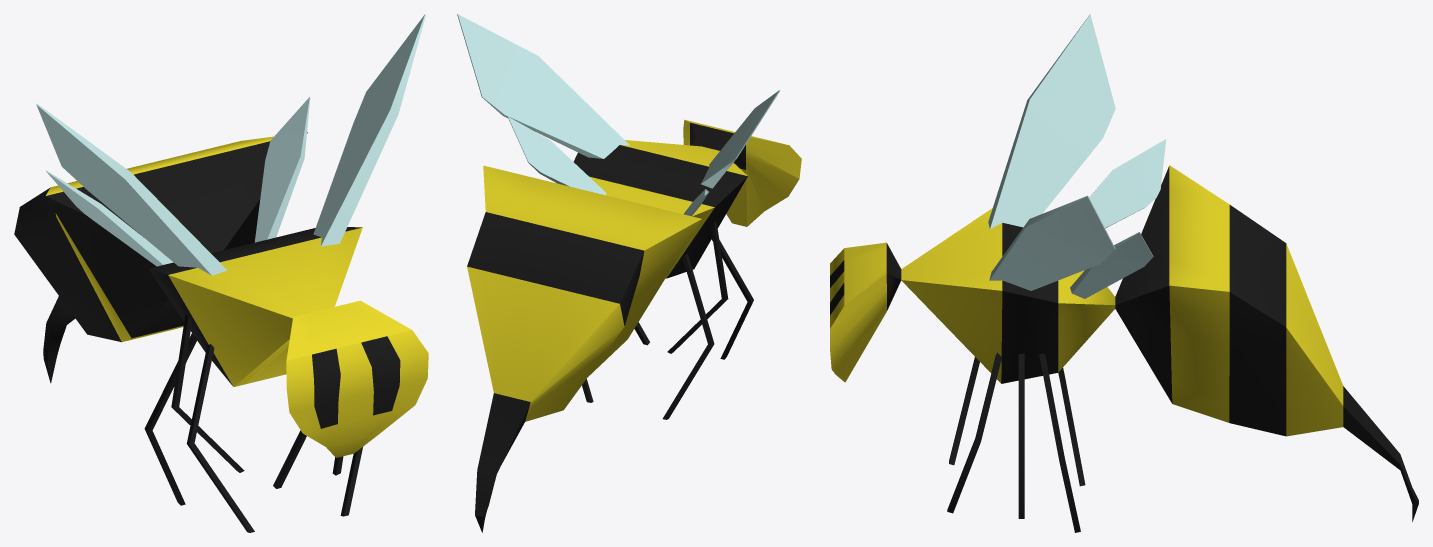
File: wasp.fbx
3 renders of one model, left to right at view 1: azimuth 30°, elevation 25°; view 2: azimuth 150°, elevation 25°; view 3: azimuth 270°, elevation 25°, orthographic. The views are drawn at different scales.
Visible parts, largest first — view 1: pCube1, pCube9, pCube8, pCube11, pCube10, pCube5, pCube6, pCube7, pCube2, pCube4; view 2: pCube1, pCube8, pCube11, pCube9, pCube6, pCube7, pCube5; view 3: pCube1, pCube9, pCube8, pCube10, pCube11, pCube4, pCube2, pCube3, pCube6, pCube5.
Boxes of the visible parts, x1,y1,x2,y2 form: pCube1: (14,132,428,457); pCube9: (36,103,227,275); pCube8: (313,14,425,246); pCube11: (254,97,310,242); pCube10: (45,170,173,266); pCube5: (186,344,254,532); pCube6: (144,333,197,505); pCube7: (171,314,244,472); pCube2: (340,447,362,516); pCube4: (273,430,306,488); pCube1: (467,119,801,532); pCube8: (457,14,629,158); pCube11: (507,116,606,195); pCube9: (701,90,779,188); pCube6: (662,254,714,419); pCube7: (667,221,728,353); pCube5: (711,237,753,359); pCube1: (830,165,1418,521); pCube9: (988,14,1115,228); pCube8: (989,195,1115,290); pCube10: (1089,139,1166,228); pCube11: (1070,232,1153,298); pCube4: (1039,353,1080,532); pCube2: (947,352,1001,513); pCube3: (1018,353,1024,518); pCube6: (1058,368,1085,486); pCube5: (949,357,979,465).
Size of the model in its own units: 7.41 by 8.21 by 10.32.
